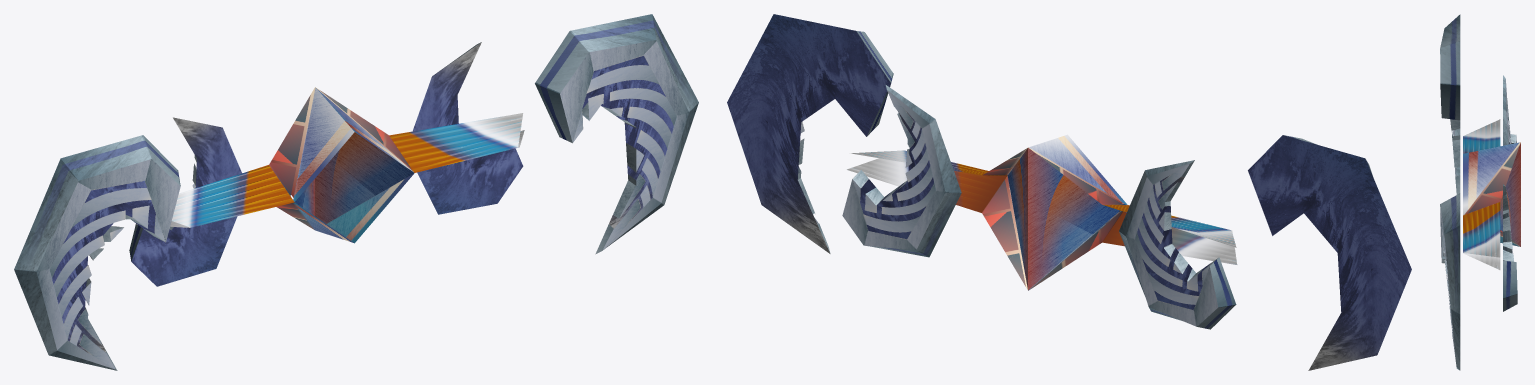
File: wind.obj
The picture shows the model from 3 angles, left to right: view 1: azimuth 30°, elevation 25°; view 2: azimuth 150°, elevation 25°; view 3: azimuth 270°, elevation 25°; orthographic projection. The views are drawn at different scales.
Visible parts, largest first — view 1: body, L_fan_L, R_fan_L, L_fan_S, R_fan_S; view 2: R_fan_L, body, L_fan_L, R_fan_S, L_fan_S; view 3: body, L_fan_L, R_fan_L, R_fan_S, L_fan_S.
Part boxes in pixels (x1,y1,x2,y2): body: (136, 87, 524, 243); L_fan_L: (14, 135, 180, 370); R_fan_L: (535, 14, 698, 254); L_fan_S: (129, 117, 241, 286); R_fan_S: (413, 42, 523, 214); R_fan_L: (727, 14, 893, 253); body: (847, 134, 1237, 290); L_fan_L: (1248, 135, 1411, 370); R_fan_S: (842, 85, 961, 257); L_fan_S: (1119, 160, 1236, 329); body: (1463, 119, 1520, 269); L_fan_L: (1440, 14, 1460, 194); R_fan_L: (1440, 193, 1460, 370); R_fan_S: (1503, 184, 1517, 311); L_fan_S: (1503, 75, 1516, 145).
Size of the model in its own units: 680 by 218 by 95.01.
1 material, 1 textured.
